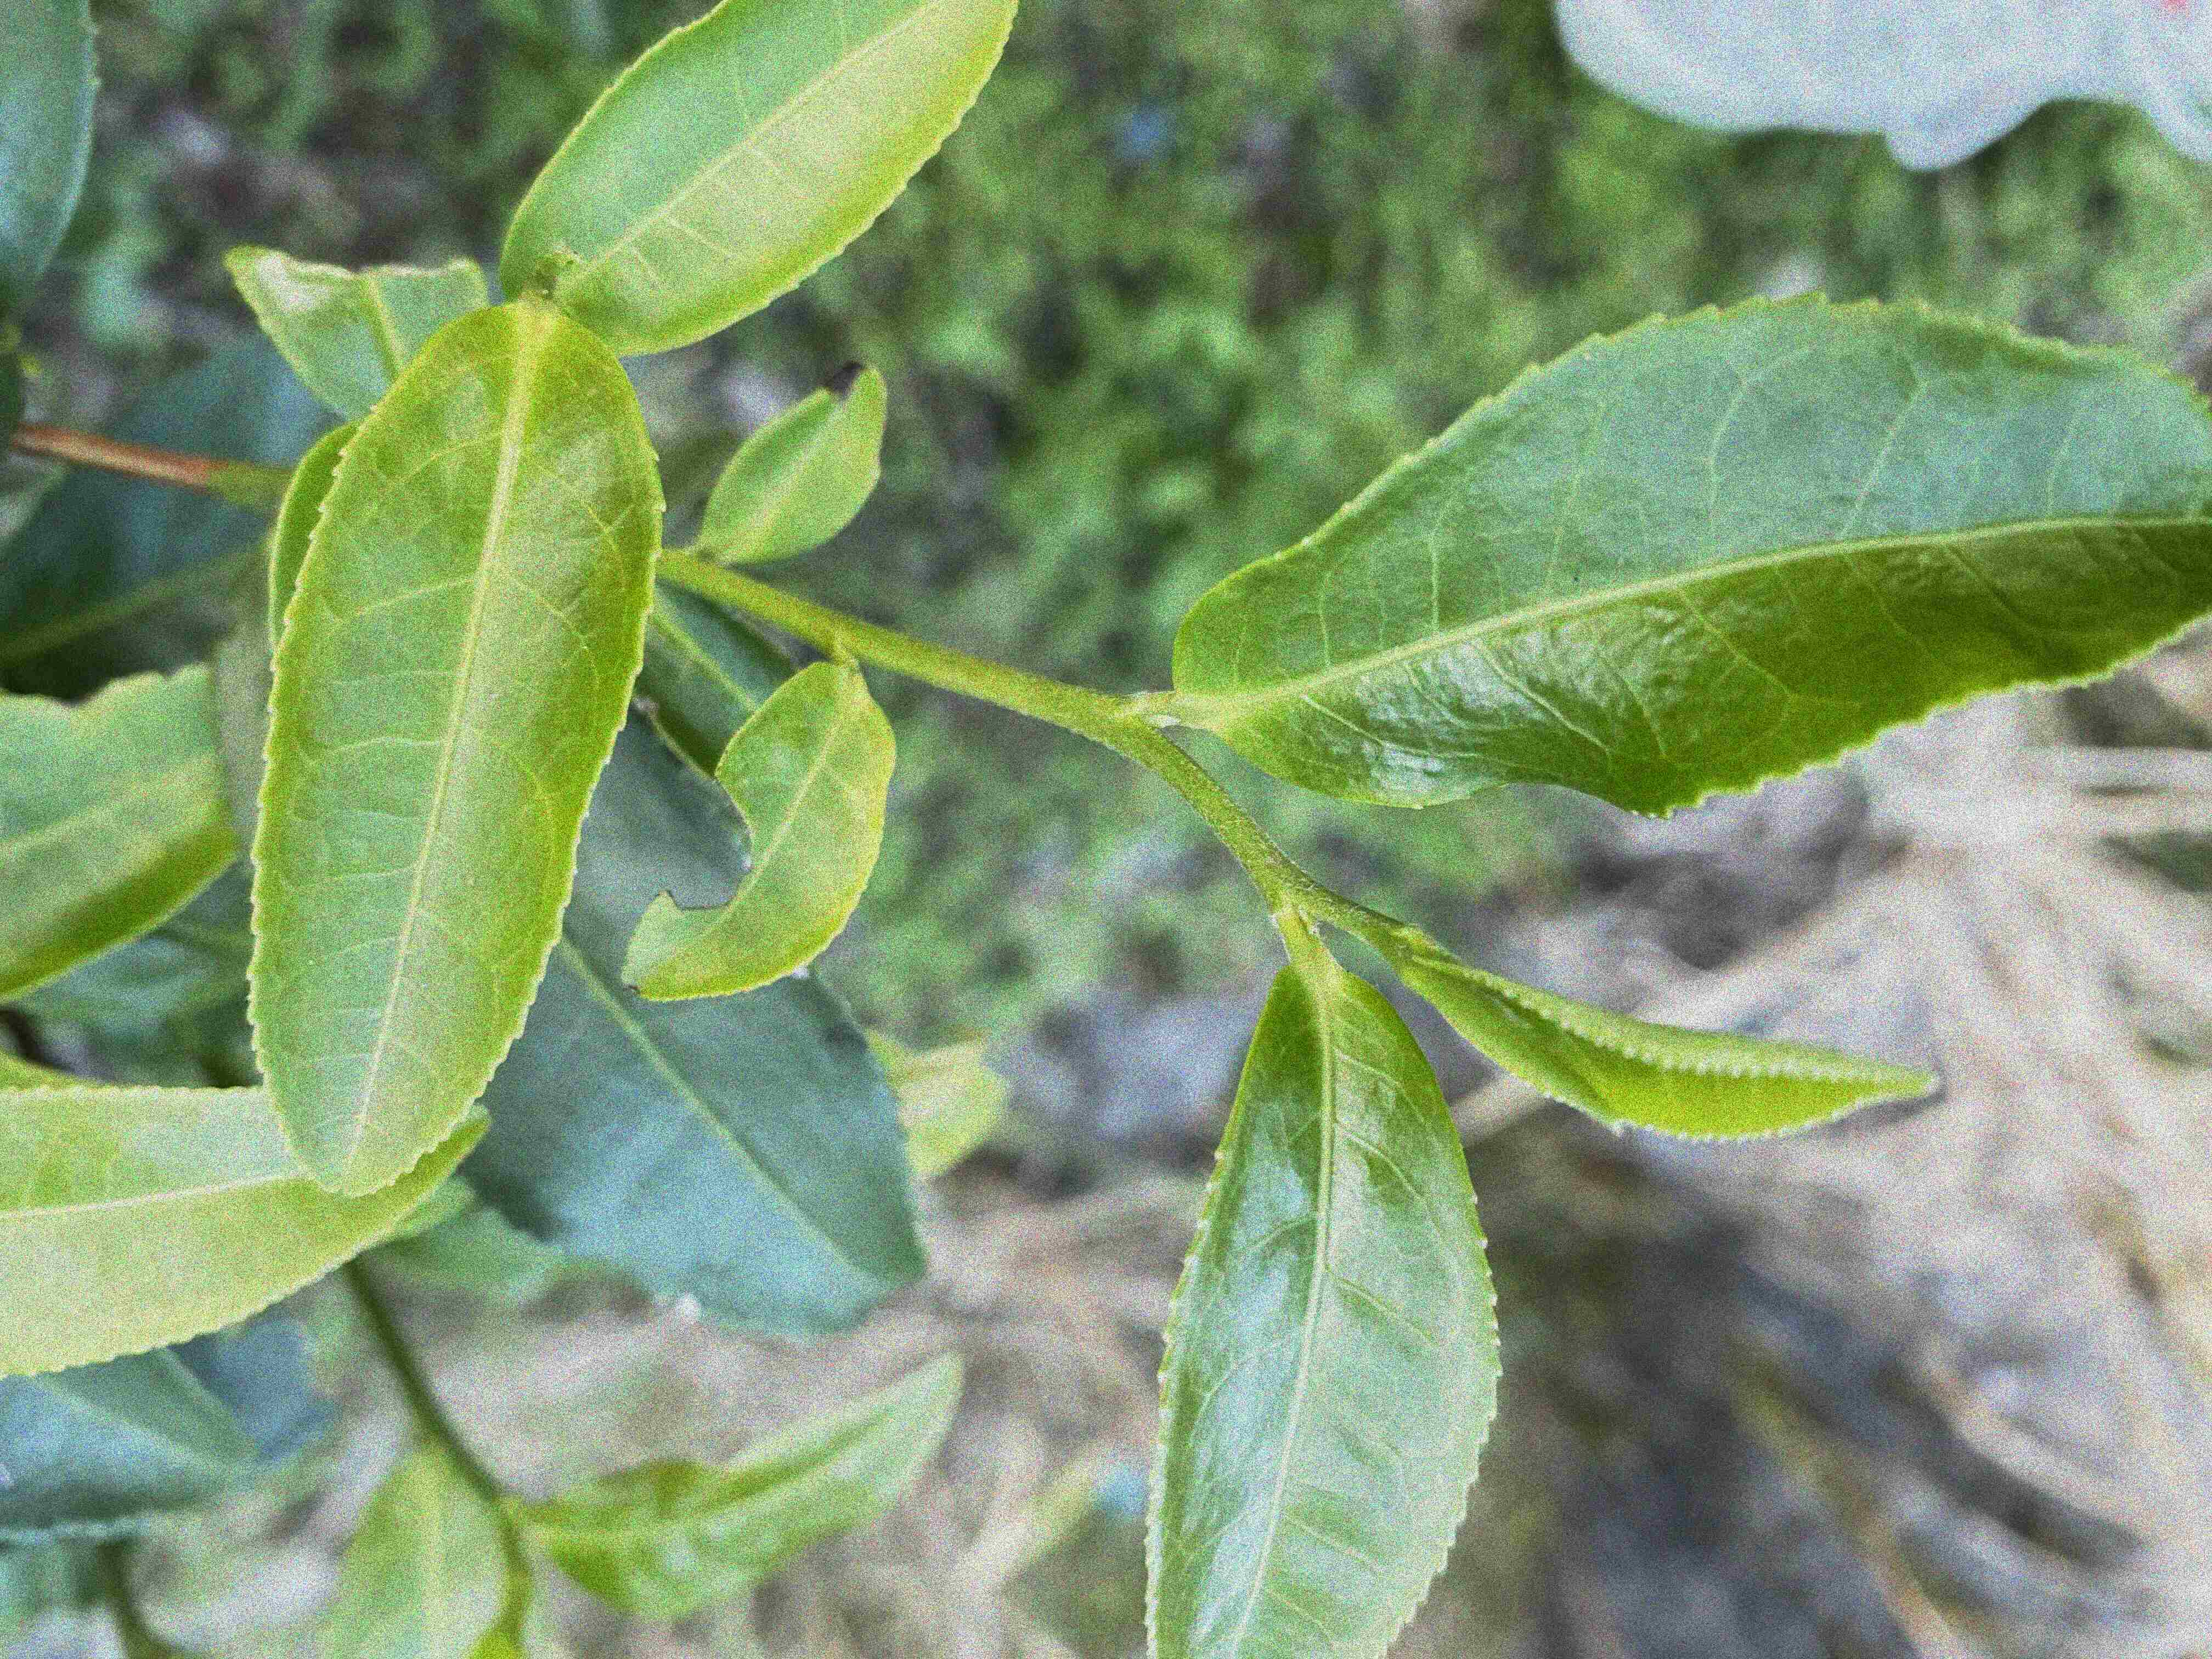chihuo_high: (615, 657, 899, 1002), (223, 249, 493, 427)
healthy: (1167, 279, 2209, 821), (244, 296, 665, 1202), (1134, 948, 1503, 1657)
tanju_low: (695, 364, 894, 570)
